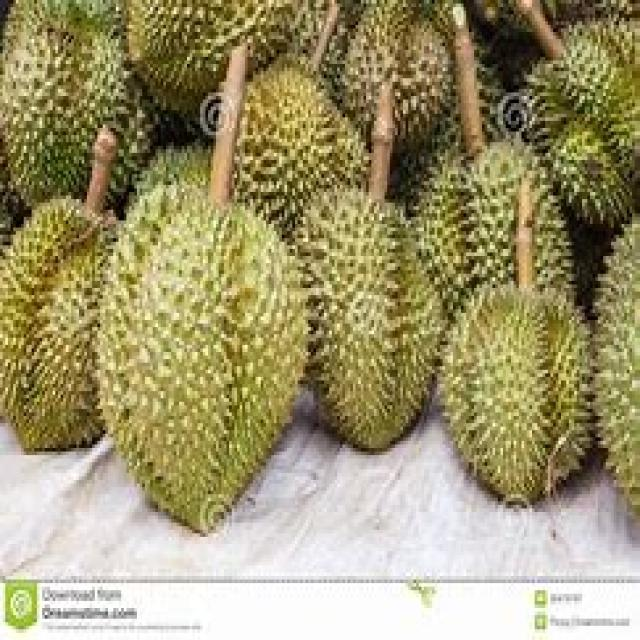immature: (95, 179, 312, 538), (292, 182, 445, 452), (439, 279, 596, 508), (1, 192, 122, 452)
